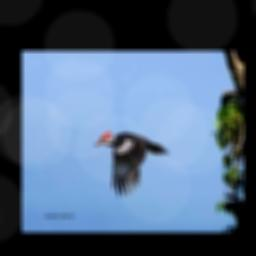Woodpecker: (94, 130, 170, 197)
